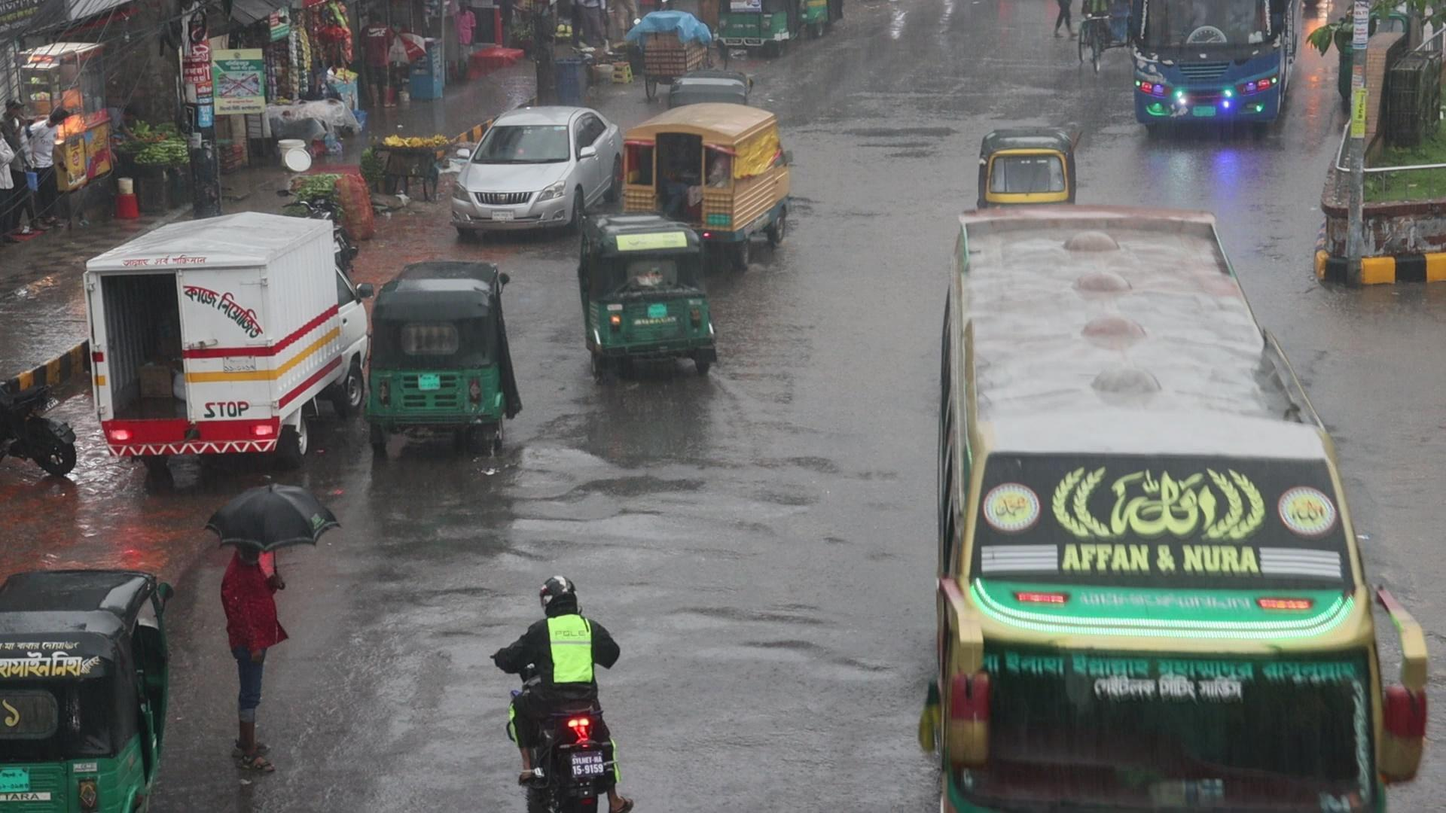Bike: (487, 571, 633, 813)
Bus: (921, 192, 1399, 813)
Truck: (620, 100, 794, 217)
